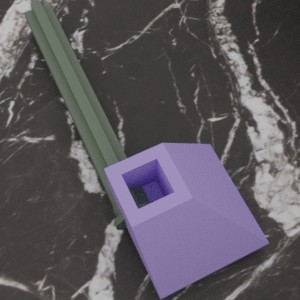lego: (24, 0, 159, 230), (103, 142, 269, 299)
